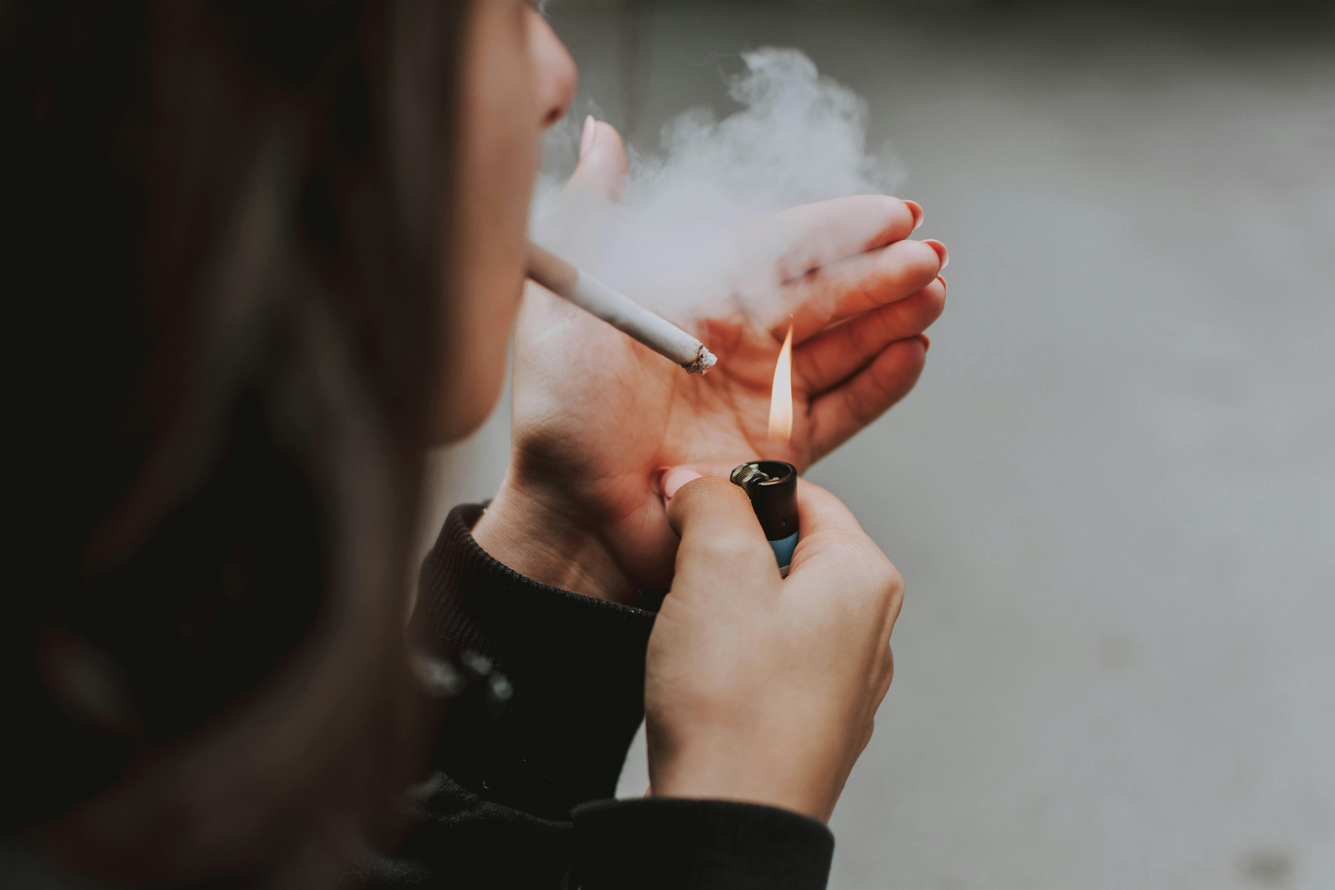smoker: (270, 0, 1067, 678)
